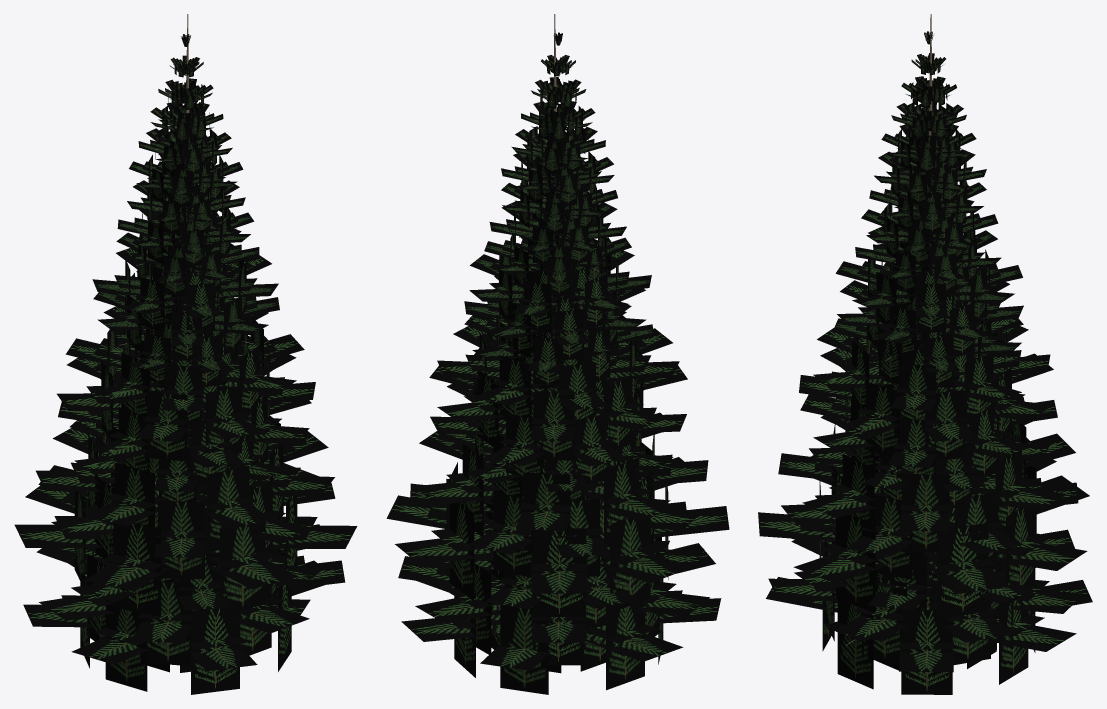
Rendered from Spruce_1_LOD0.glb.
3 renders of one model, left to right at view 1: azimuth 30°, elevation 25°; view 2: azimuth 150°, elevation 25°; view 3: azimuth 270°, elevation 25°, orthographic.
Visible parts, largest first — view 1: Spruce_1_LOD0; view 2: Spruce_1_LOD0; view 3: Spruce_1_LOD0.
Boxes of the visible parts, x1=… form: Spruce_1_LOD0: x1=14, y1=14, x2=357, y2=694; Spruce_1_LOD0: x1=386, y1=14, x2=729, y2=694; Spruce_1_LOD0: x1=758, y1=14, x2=1092, y2=694.
Size of the model in its own units: 10.79 by 22.47 by 10.59.
Materials: 2 (1 with a texture image).
